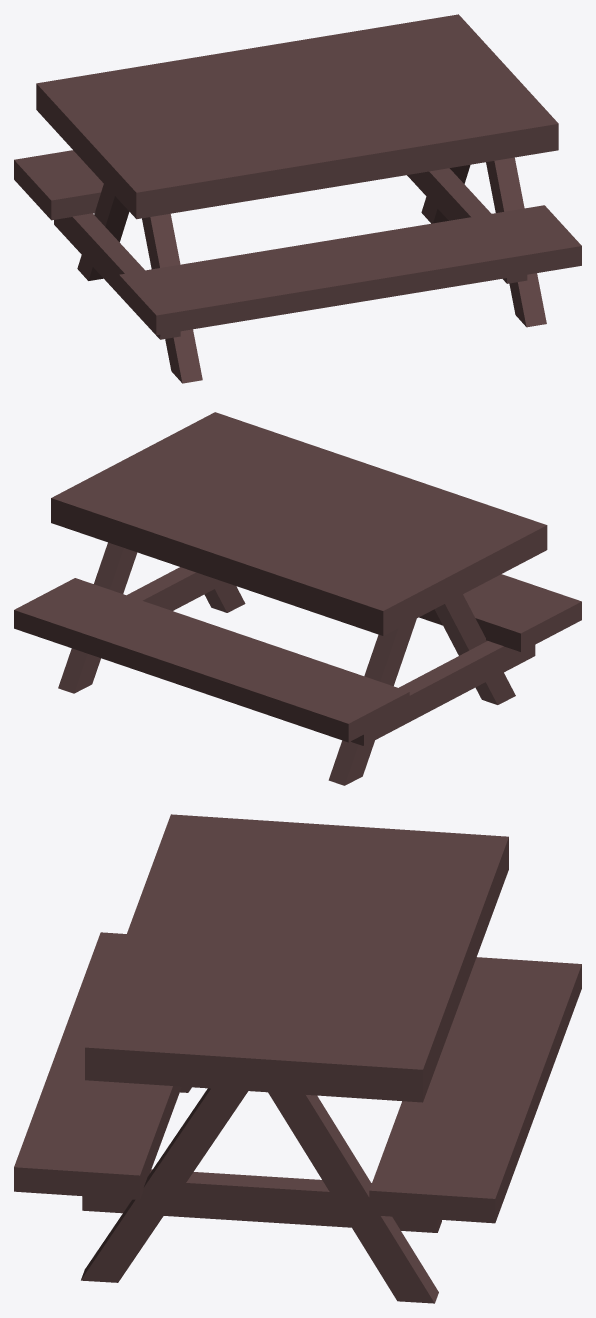
Rendered from picnic_table.fbx.
The picture shows the model from 3 angles, top to bottom: view 1: azimuth 30°, elevation 25°; view 2: azimuth 150°, elevation 25°; view 3: azimuth 270°, elevation 25°; orthographic projection. The views are drawn at different scales.
Parts seen in each view (by area): view 1: picnic table.001; view 2: picnic table.001; view 3: picnic table.001.
Boxes of the visible parts, <box> form: picnic table.001: <box>14,14,581,383</box>; picnic table.001: <box>14,412,581,785</box>; picnic table.001: <box>14,814,581,1303</box>.
Bounding box in the file's own units: 120 × 50.55 × 108.
